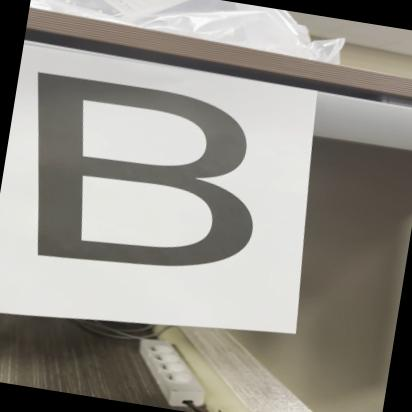seat: (4, 55, 315, 308)
